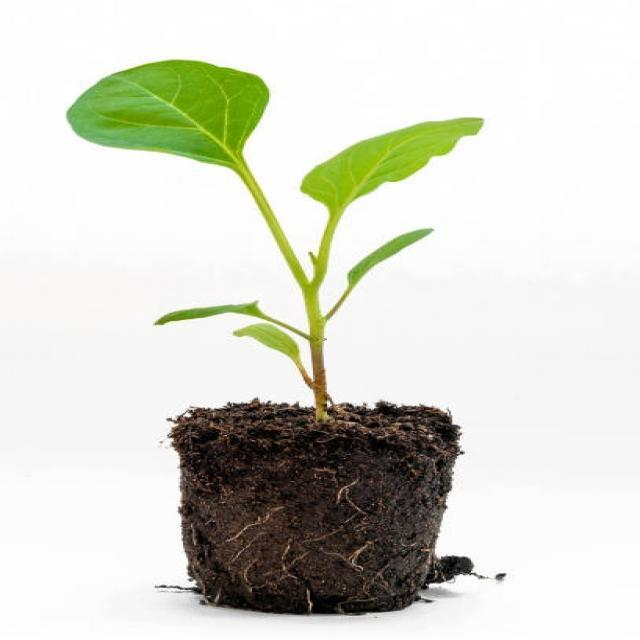brinjal: (65, 61, 482, 420)
